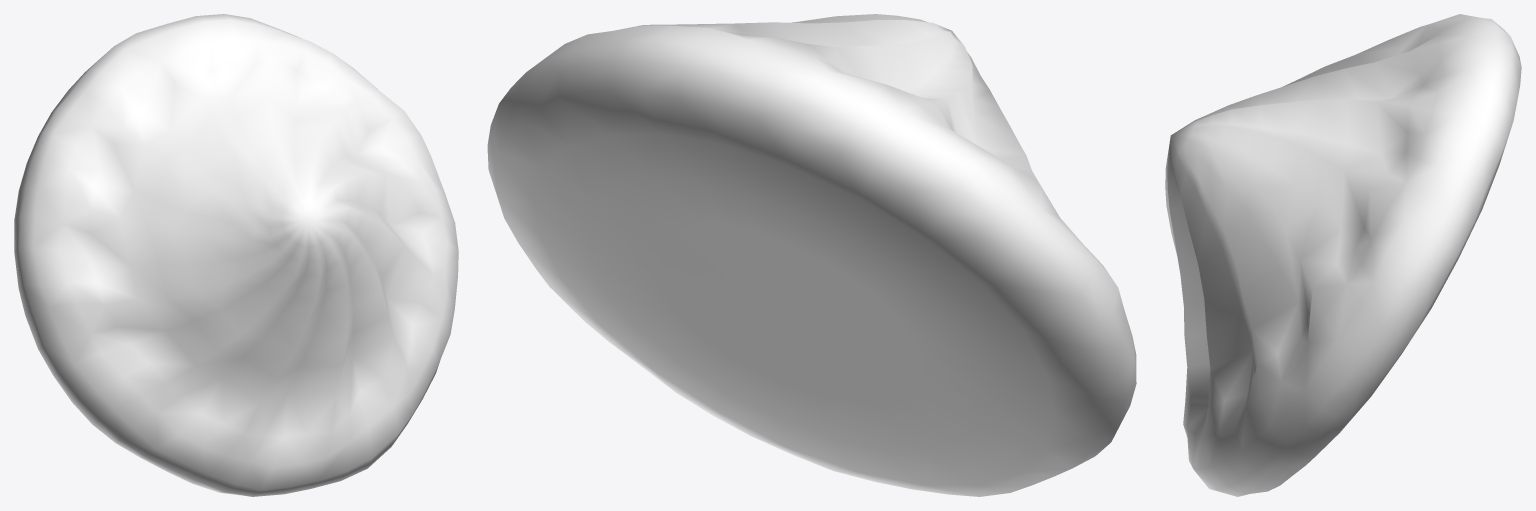
File: ref_bfsoupdumpling.glb
3 views of the same model, side by side, from view 1: azimuth 30°, elevation 25°; view 2: azimuth 150°, elevation 25°; view 3: azimuth 270°, elevation 25° (orthographic). The views are drawn at different scales.
Visible parts, largest first — view 1: ref_bfsoupdumpling; view 2: ref_bfsoupdumpling; view 3: ref_bfsoupdumpling.
Part boxes in pixels (x1=…): ref_bfsoupdumpling: x1=14, y1=14, x2=458, y2=496; ref_bfsoupdumpling: x1=487, y1=14, x2=1136, y2=496; ref_bfsoupdumpling: x1=1165, y1=14, x2=1521, y2=496.
Size of the model in its own units: 1 by 0.8785 by 0.6649.
Materials: 1 (1 with a texture image).
